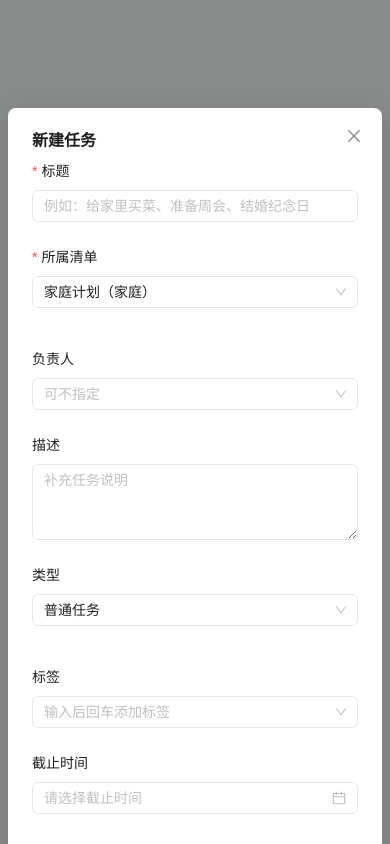
Test: TaskFormModal › requires a date for anniversary tasks
Type "纪念日" into the field with placeholder "例如：给家里买菜、准备周会、结婚纪念日" at (187,206), box [44,195,330,217]
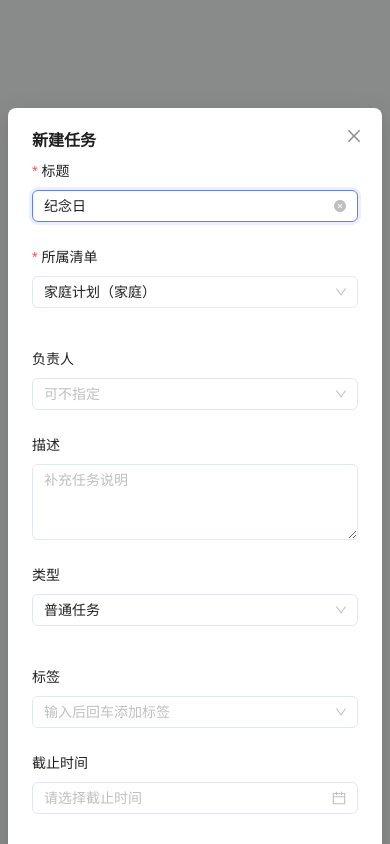
Click the dropdown labelled "类型" at (53,575), box [32,564,74,586]
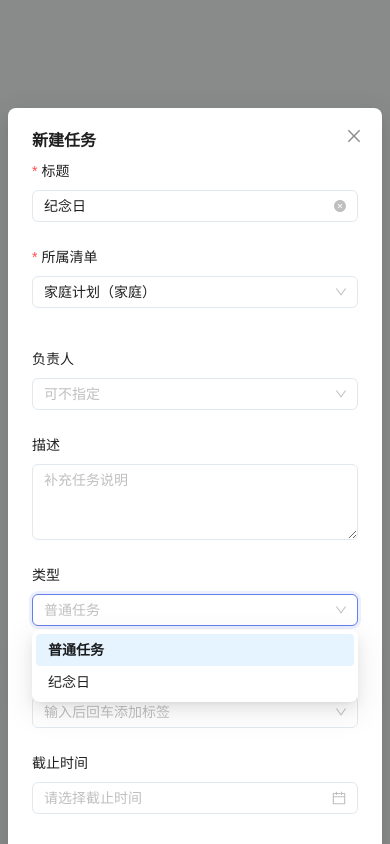
Click the text "纪念日" at (69,682), box [48,673,90,690]
(page scrolled)
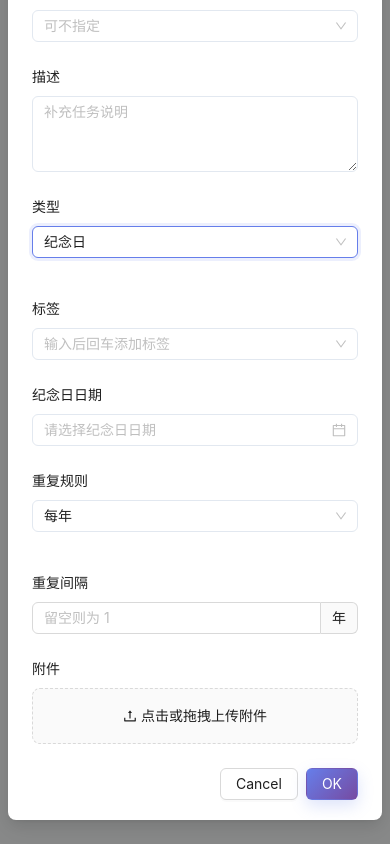
Click the button "OK" at (332,784), box [306,768,358,800]
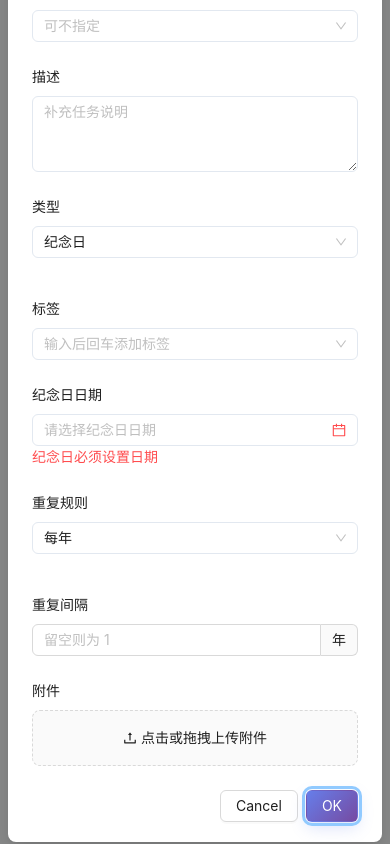
Expected: the text "纪念日必须设置日期" is shown, [32,448,158,465]
